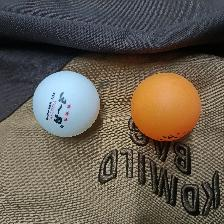WhiteBall: (31, 70, 100, 138)
YellowBall: (130, 72, 201, 141)
